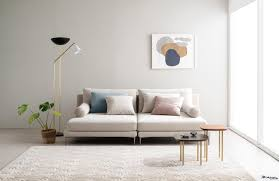Sofa: (64, 85, 212, 144)
Table: (174, 129, 210, 167), (198, 122, 229, 163)
